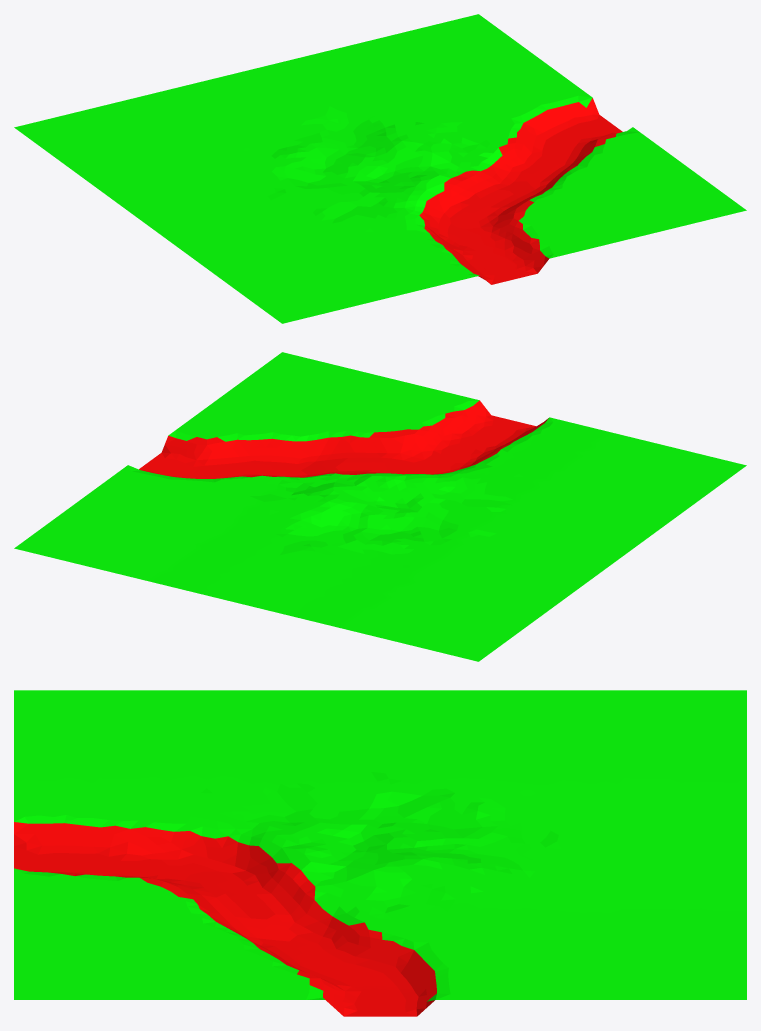
The model's file is RiverAngle02.fbx.
3 views of the same model, one above another, from view 1: azimuth 30°, elevation 25°; view 2: azimuth 150°, elevation 25°; view 3: azimuth 270°, elevation 25° (orthographic). The views are drawn at different scales.
Parts seen in each view (by area): view 1: RiverAngle02; view 2: RiverAngle02; view 3: RiverAngle02.
Part boxes in pixels (x1=…): RiverAngle02: x1=14, y1=14, x2=746, y2=323; RiverAngle02: x1=14, y1=352, x2=746, y2=661; RiverAngle02: x1=14, y1=690, x2=746, y2=1016.
Bounding box in the file's own units: 5009 × 240 × 5009.
